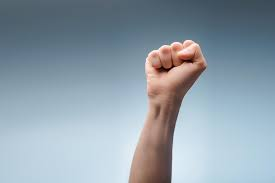closed: (144, 39, 207, 97)
